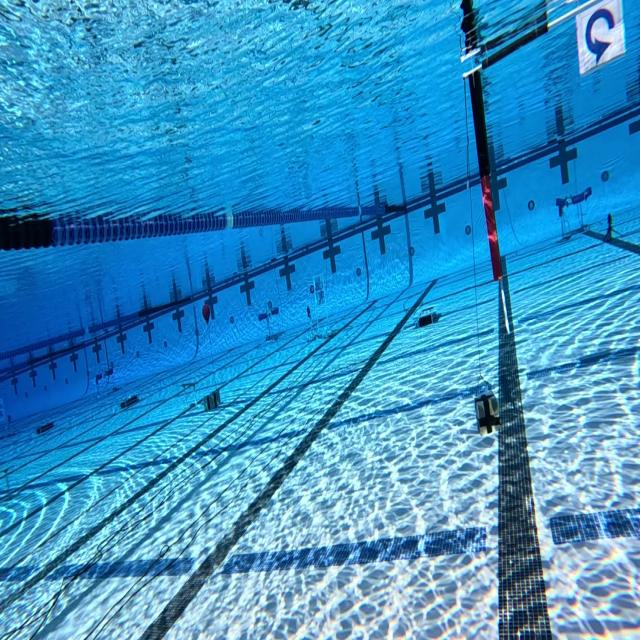blue_side: (574, 0, 625, 75)
